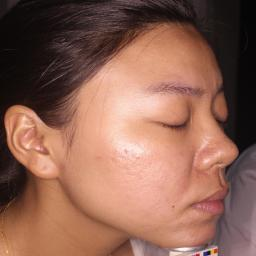ance: (192, 140, 222, 158), (121, 166, 141, 182), (92, 150, 108, 166), (116, 144, 130, 160), (132, 150, 142, 164), (188, 220, 198, 232)
